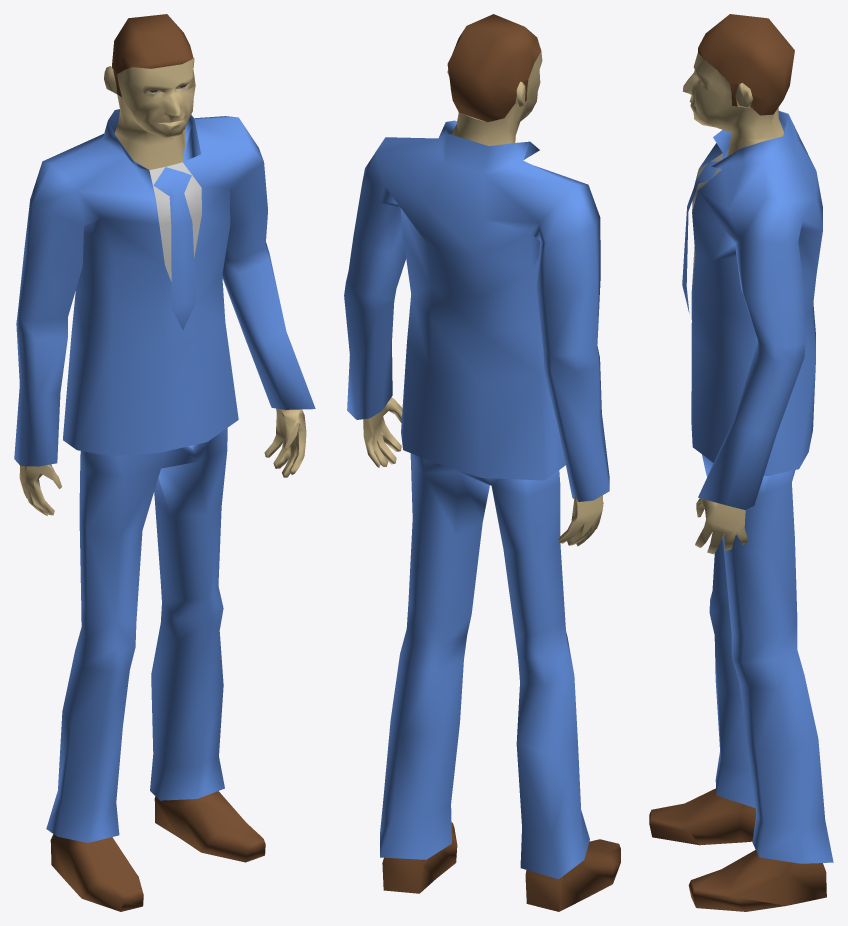
Rendered from airportworker.dae.
The picture shows the model from 3 angles, left to right: view 1: azimuth 30°, elevation 25°; view 2: azimuth 150°, elevation 25°; view 3: azimuth 270°, elevation 25°; orthographic projection.
Visible parts, largest first — view 1: polymsh_Pts_Material__2__Surf, polymsh2_Pts_Material__3__Surf, polymsh4_Pts_Material__5__Surf, polymsh_detached5_Pts_Material__1__Surf, polymsh3_Pts_Material__4__Surf; view 2: polymsh_Pts_Material__2__Surf, polymsh2_Pts_Material__3__Surf, polymsh4_Pts_Material__5__Surf; view 3: polymsh_Pts_Material__2__Surf, polymsh2_Pts_Material__3__Surf, polymsh4_Pts_Material__5__Surf, polymsh_detached5_Pts_Material__1__Surf.
Boxes of the visible parts, <box> form: polymsh_Pts_Material__2__Surf: <box>14,109,315,842</box>; polymsh2_Pts_Material__3__Surf: <box>50,14,265,911</box>; polymsh4_Pts_Material__5__Surf: <box>19,58,306,515</box>; polymsh_detached5_Pts_Material__1__Surf: <box>153,167,196,329</box>; polymsh3_Pts_Material__4__Surf: <box>146,84,201,281</box>; polymsh_Pts_Material__2__Surf: <box>344,120,609,879</box>; polymsh2_Pts_Material__3__Surf: <box>382,14,620,911</box>; polymsh4_Pts_Material__5__Surf: <box>363,51,603,546</box>; polymsh_Pts_Material__2__Surf: <box>691,111,833,863</box>; polymsh2_Pts_Material__3__Surf: <box>649,14,826,911</box>; polymsh4_Pts_Material__5__Surf: <box>682,53,783,554</box>; polymsh_detached5_Pts_Material__1__Surf: <box>682,161,718,312</box>.
Bounding box in the file's own units: 7.07 × 20.88 × 4.15.
